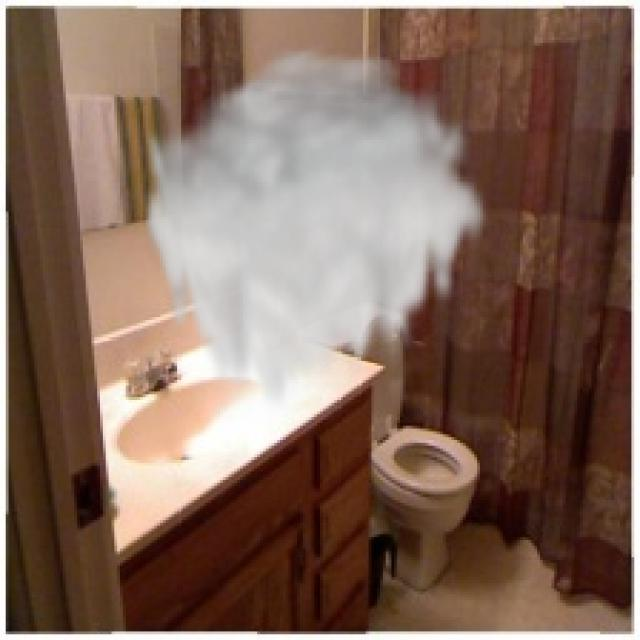Smoke: (140, 40, 492, 420)
